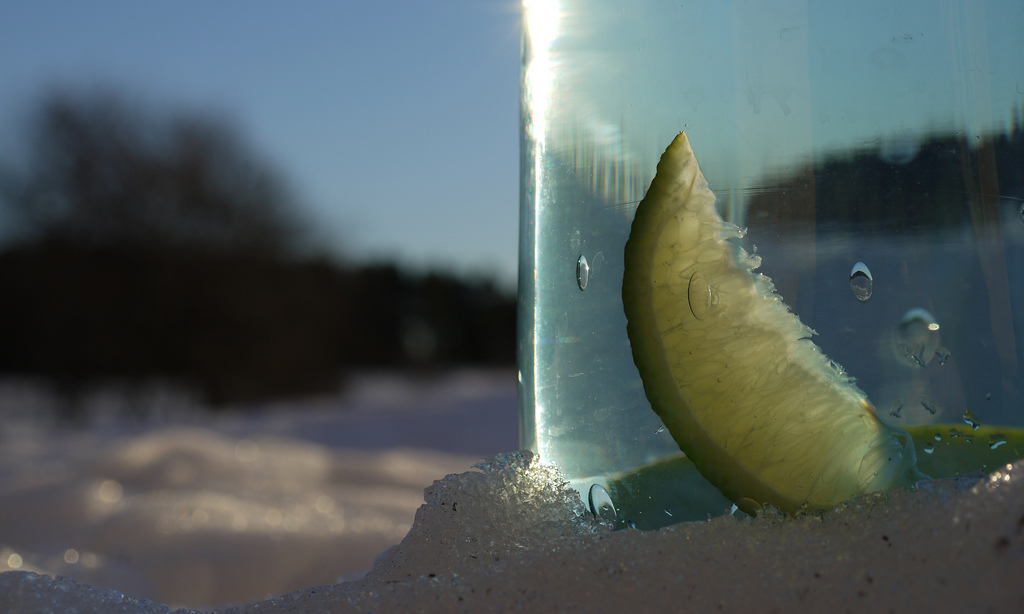glass of water: (491, 12, 1024, 522)
